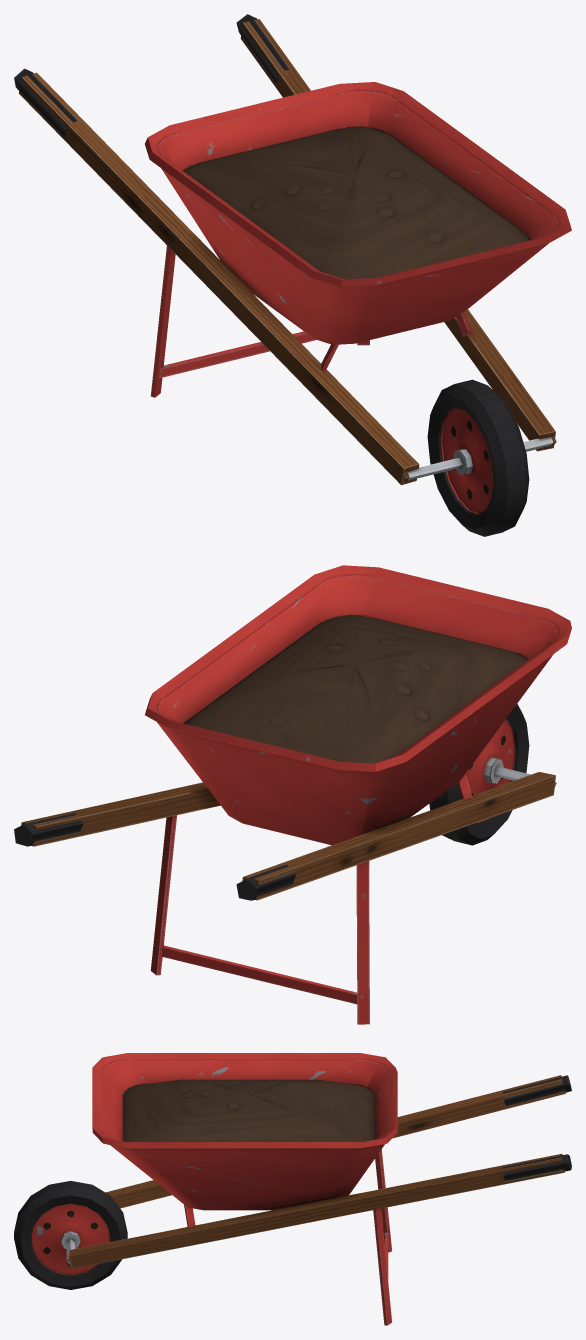
Rendered from Wheelbarrow_01.fbx.
3 renders of one model, top to bottom at view 1: azimuth 30°, elevation 25°; view 2: azimuth 150°, elevation 25°; view 3: azimuth 270°, elevation 25°, orthographic. The views are drawn at different scales.
Visible parts, largest first — view 1: Wheelbarrow_01; view 2: Wheelbarrow_01; view 3: Wheelbarrow_01.
Part boxes in pixels (bbox=[...]): Wheelbarrow_01: bbox=[14, 14, 571, 536]; Wheelbarrow_01: bbox=[14, 565, 571, 1024]; Wheelbarrow_01: bbox=[14, 1053, 571, 1325].
Size of the model in its own units: 0.7161 by 0.7074 by 1.86.
Materials: 1 (1 with a texture image).
